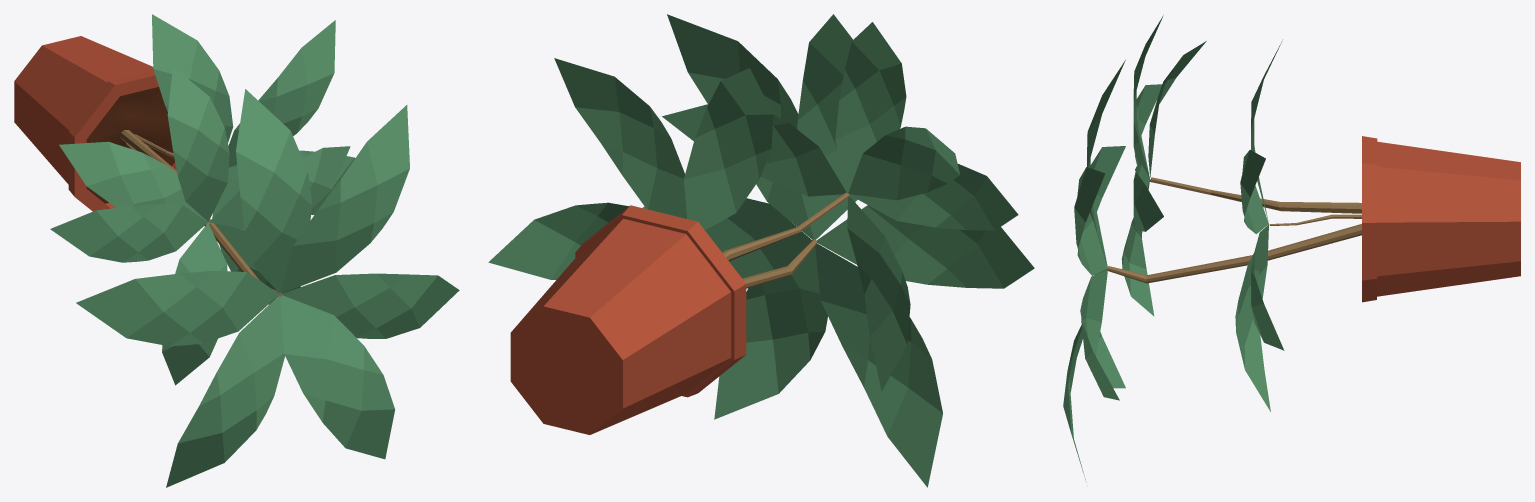
3 renders of one model, left to right at view 1: azimuth 30°, elevation 25°; view 2: azimuth 150°, elevation 25°; view 3: azimuth 270°, elevation 25°, orthographic. The views are drawn at different scales.
Visible parts, largest first — view 1: Leaf 1, Leaf 2, Pot, Leaf 3; view 2: Leaf 1, Pot, Leaf 2, Leaf 3; view 3: Pot, Leaf 1, Leaf 3, Leaf 2.
Boxes of the visible parts, box(x1,y1,x2,y2) form: Leaf 1: box(76, 89, 459, 487); Leaf 2: box(50, 66, 350, 385); Pot: box(14, 36, 282, 296); Leaf 3: box(152, 14, 355, 304); Leaf 1: box(642, 14, 1034, 487); Pot: box(510, 192, 849, 434); Leaf 2: box(662, 22, 1018, 391); Leaf 3: box(488, 58, 773, 279); Pot: box(1106, 136, 1520, 302); Leaf 1: box(1063, 60, 1125, 481); Leaf 3: box(1235, 41, 1284, 411); Leaf 2: box(1121, 15, 1206, 316).
Size of the model in its own units: 0.8645 by 0.8675 by 0.9167.
